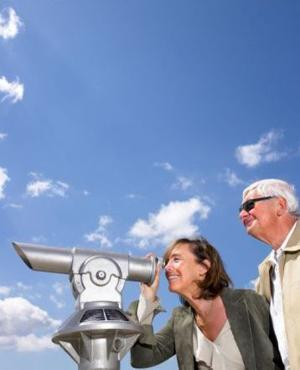person: (129, 236, 284, 370)
